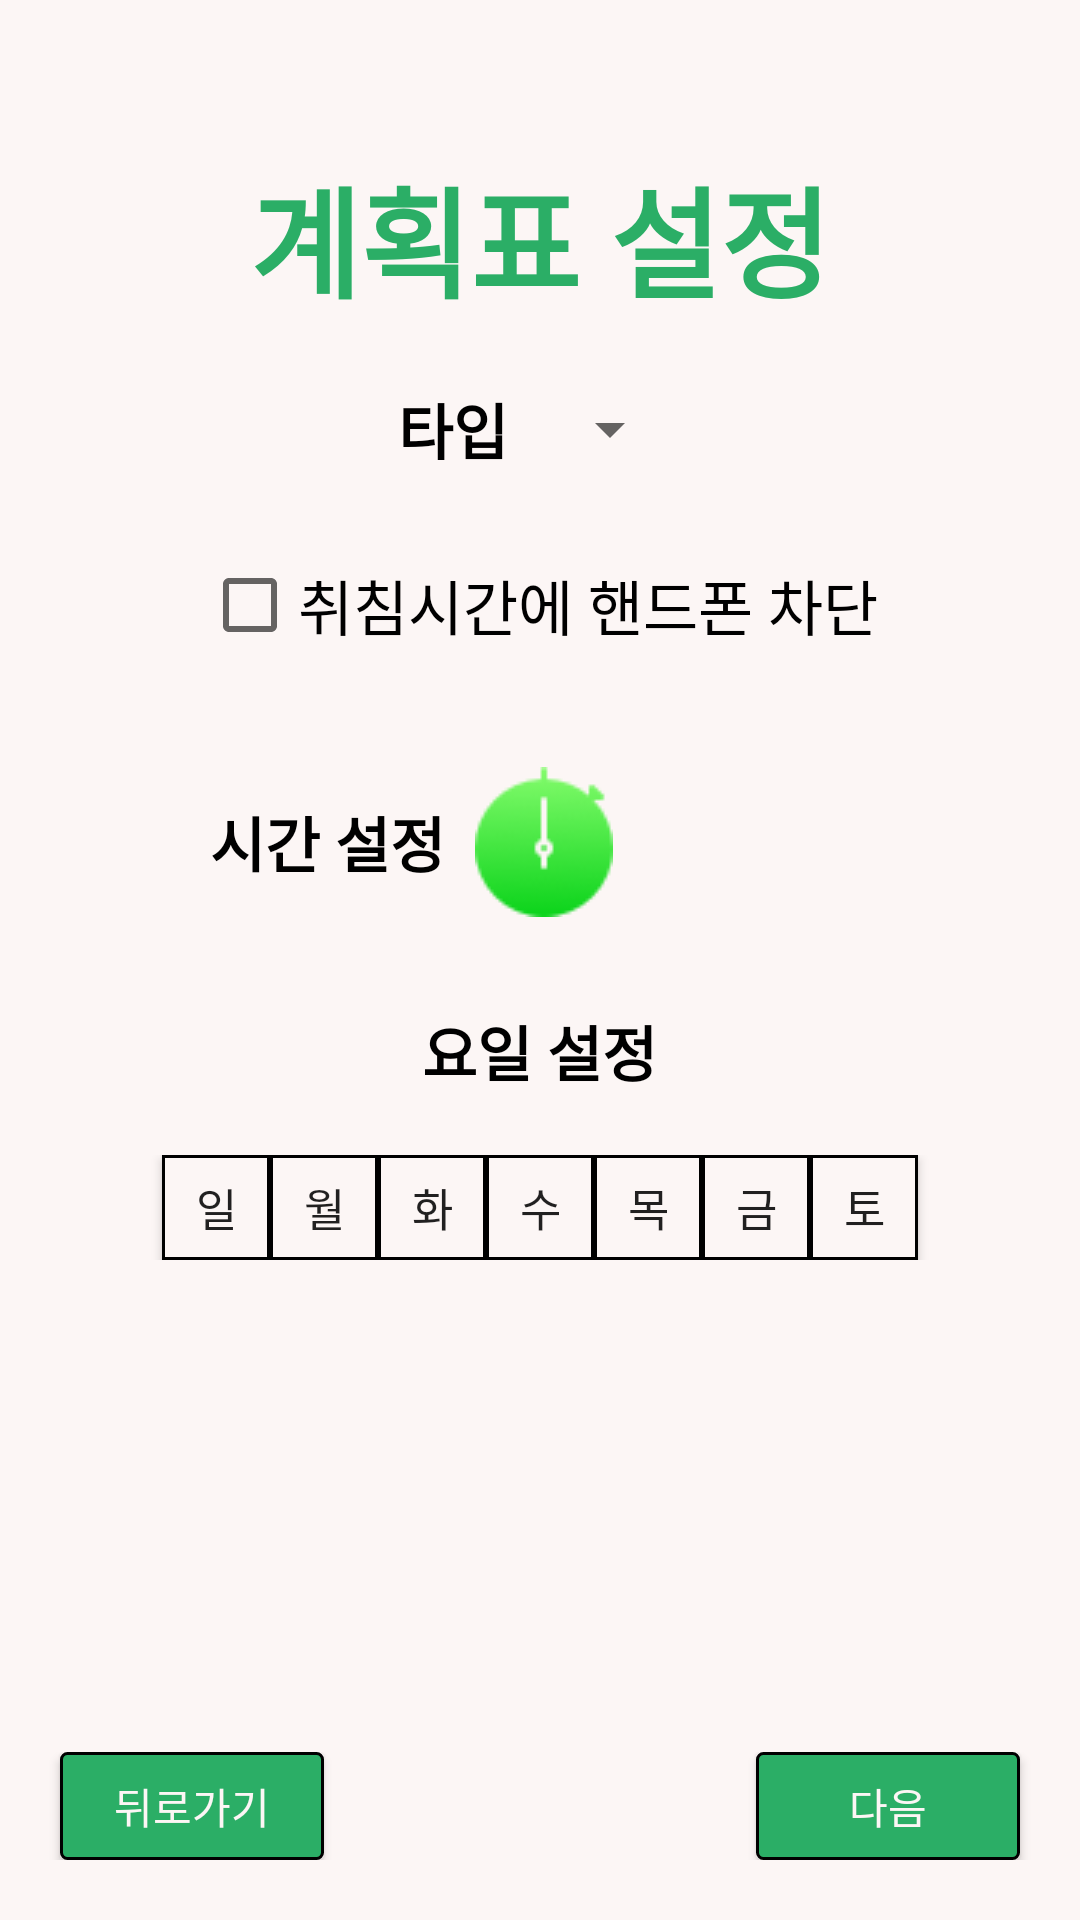

Icon click points for this 1080*1920 phone screenshot, format (x,y):
timer: (544,842)
